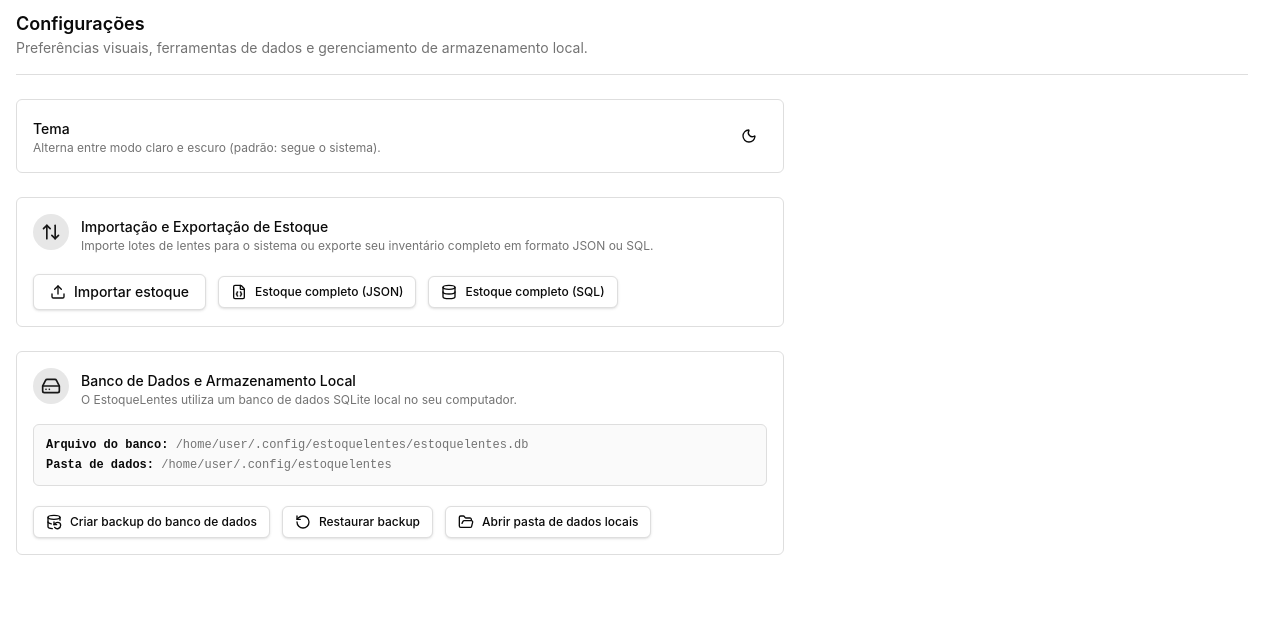
Test: SettingsView › displays error message if opening the data folder fails
What coordinates should you click on to do the following:
click the button "Abrir pasta de dados locais"
I would click on:
 (548, 522)
Its box is [445,506,651,538].
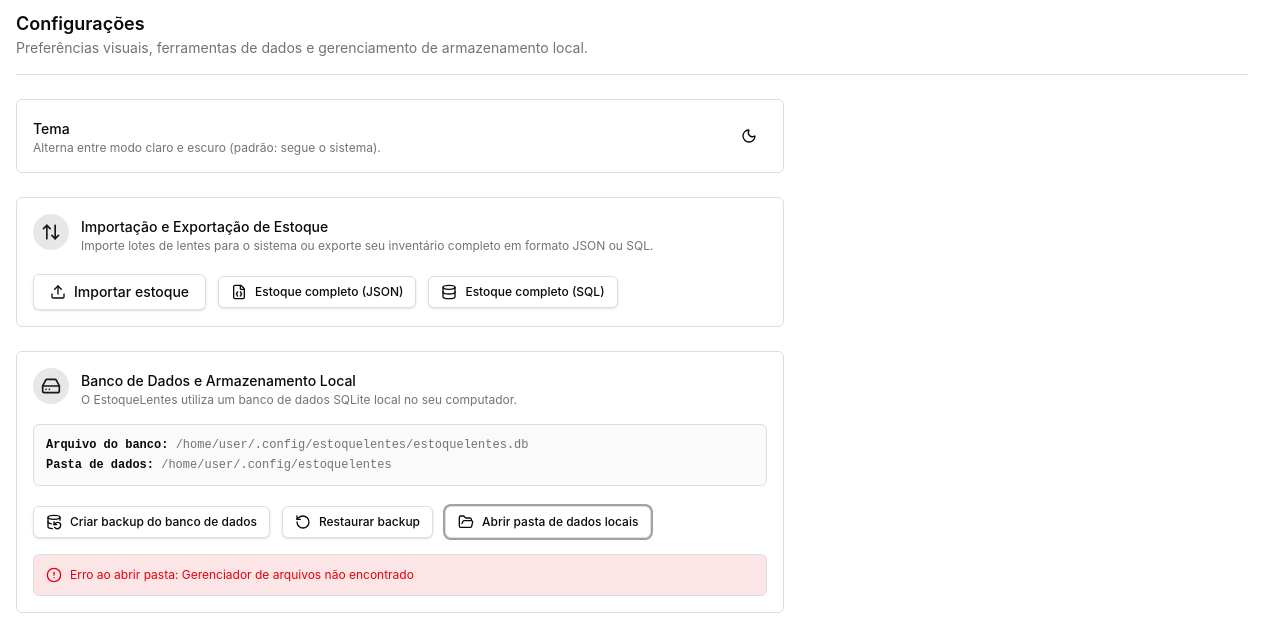
Check: the text "Erro ao abrir pasta: Gerenciador de arquivos não encontrado" is shown, box [70,567,414,583]
